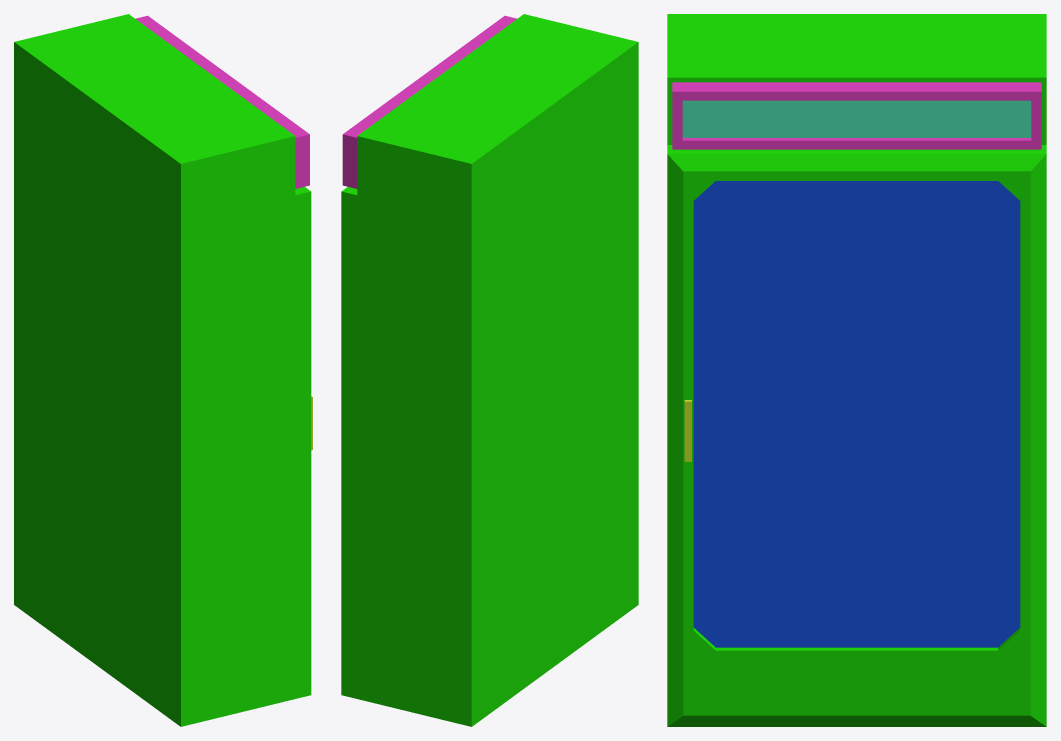
File: Fridge_02.fbx
3 views of the same model, side by side, from view 1: azimuth 30°, elevation 25°; view 2: azimuth 150°, elevation 25°; view 3: azimuth 270°, elevation 25° (orthographic). The views are drawn at different scales.
Visible parts, largest first — view 1: Fridge_02, Fridge_02_Door; view 2: Fridge_02, Fridge_02_Door; view 3: Fridge_02_Door, Fridge_02.
Boxes of the visible parts, <box> form: Fridge_02: <box>14,14,309,726</box>; Fridge_02_Door: <box>295,187,312,698</box>; Fridge_02: <box>342,14,638,726</box>; Fridge_02_Door: <box>341,187,357,698</box>; Fridge_02_Door: <box>667,145,1046,726</box>; Fridge_02: <box>667,14,1046,149</box>.
Size of the model in its own units: 66.3 by 256 by 137.
